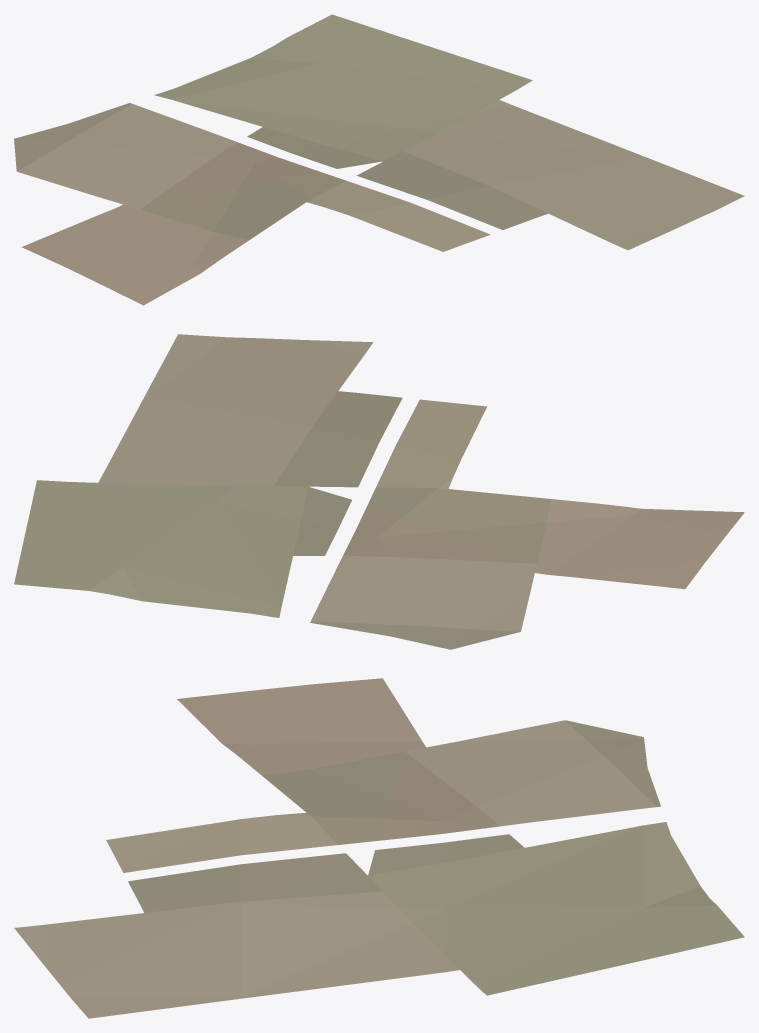
File: farm_11_8_soil.glb
3 renders of one model, top to bottom at view 1: azimuth 30°, elevation 25°; view 2: azimuth 150°, elevation 25°; view 3: azimuth 270°, elevation 25°, orthographic. The views are drawn at different scales.
Parts seen in each view (by area): view 1: geometry_0; view 2: geometry_0; view 3: geometry_0.
Part boxes in pixels (x1,y1,x2,y2): geometry_0: (14, 14, 744, 305); geometry_0: (14, 334, 744, 649); geometry_0: (14, 678, 744, 1018).
Size of the model in its own units: 319 by 6.51 by 291.
